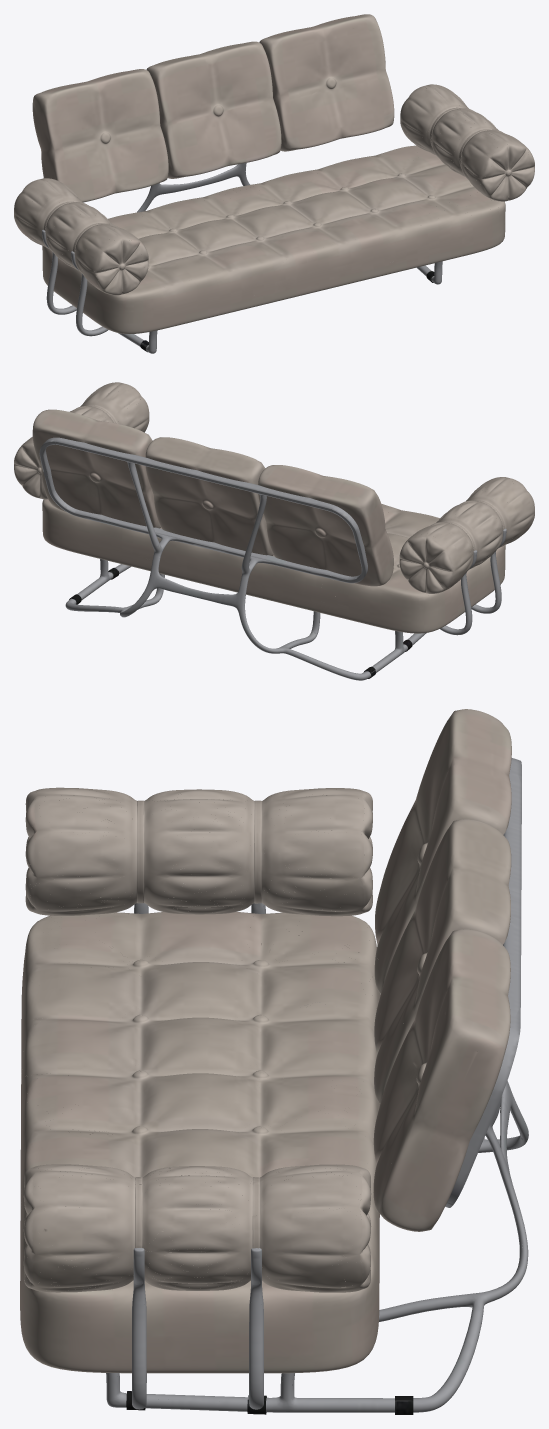
The model's file is sofa-23.glb.
3 views of the same model, one above another, from view 1: azimuth 30°, elevation 25°; view 2: azimuth 150°, elevation 25°; view 3: azimuth 270°, elevation 25° (orthographic). The views are drawn at different scales.
Visible parts, largest first — view 1: Sofa, Frame; view 2: Sofa, Frame; view 3: Sofa, Frame.
Boxes of the visible parts, left/top/right/bottom form: Sofa: left=14, top=14, right=534, bottom=334; Frame: left=42, top=163, right=442, bottom=353; Sofa: left=14, top=382, right=534, bottom=633; Frame: left=39, top=437, right=506, bottom=680; Sofa: left=20, top=709, right=511, bottom=1373; Frame: left=63, top=758, right=528, bottom=1414.
Size of the model in its own units: 15.71 by 6.9 by 7.83.
2 materials, 2 textured.
